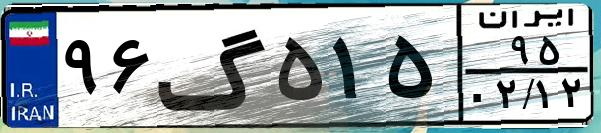0: (470, 70, 495, 125)
1: (330, 28, 385, 110), (535, 70, 560, 125)
2: (560, 70, 590, 125), (495, 70, 520, 125)
5: (270, 28, 330, 110), (385, 28, 445, 110), (537, 27, 568, 80)
6: (110, 28, 156, 98)
9: (57, 26, 110, 100), (508, 27, 537, 80)
گ: (156, 12, 270, 120)
